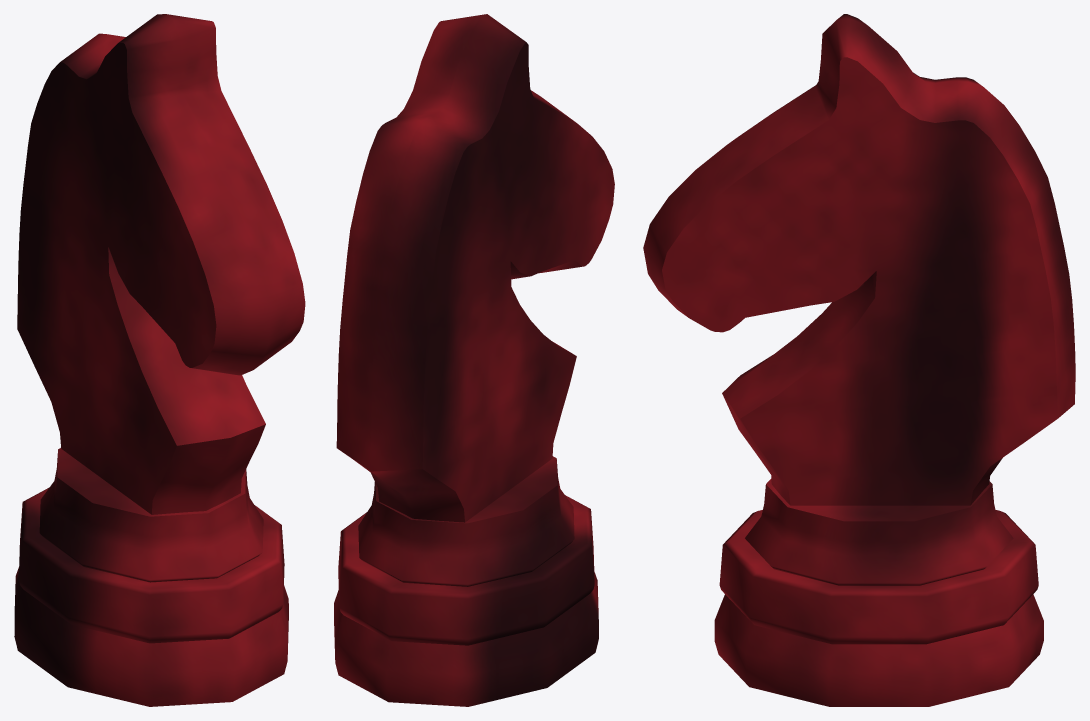
File: item-1-3.glb
The picture shows the model from 3 angles, left to right: view 1: azimuth 30°, elevation 25°; view 2: azimuth 150°, elevation 25°; view 3: azimuth 270°, elevation 25°; orthographic projection. The views are drawn at different scales.
Visible parts, largest first — view 1: BlackHorse; view 2: BlackHorse; view 3: BlackHorse.
Part boxes in pixels (x1,y1,x2,y2): BlackHorse: (14,14,305,706); BlackHorse: (334,14,614,706); BlackHorse: (643,14,1075,706).
Size of the model in its own units: 0.0718 by 0.1965 by 0.1211.
Materials: 1 (1 with a texture image).
